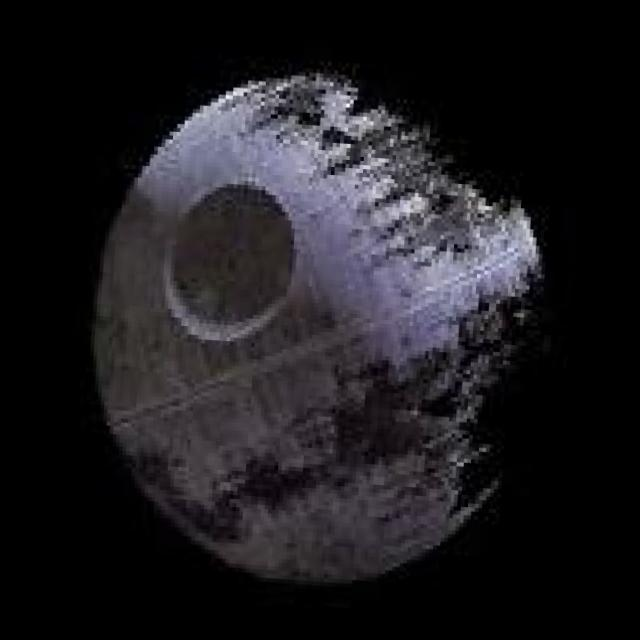Death Star: (67, 48, 565, 607)
